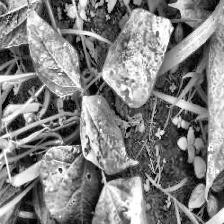ALS: (99, 10, 172, 110), (82, 95, 144, 175), (45, 147, 108, 224), (208, 13, 224, 194), (95, 174, 151, 224), (0, 0, 45, 50)
